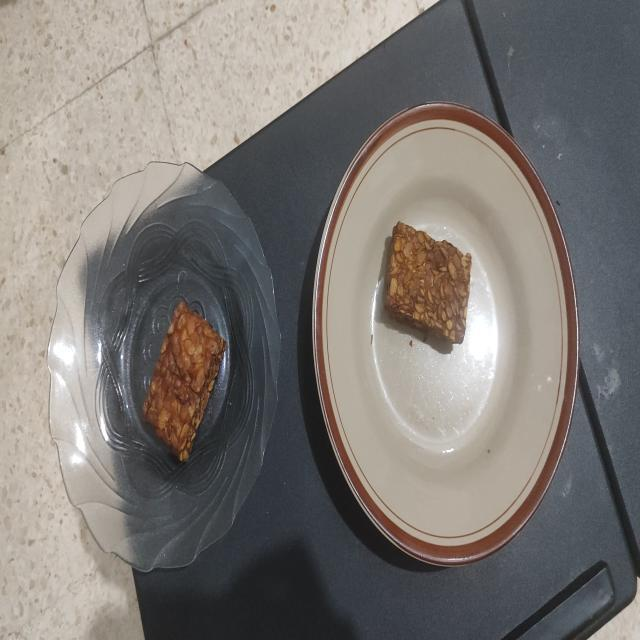tempe_goreng: (143, 302, 226, 461), (386, 222, 472, 342)
